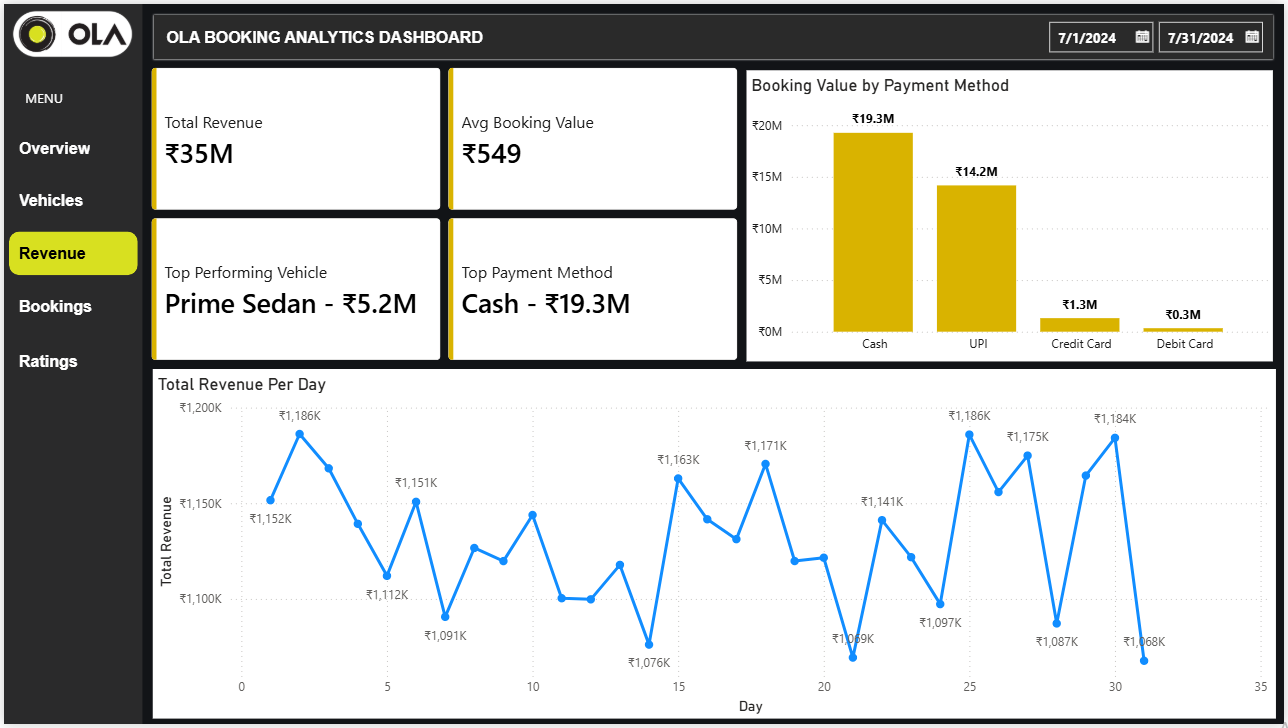

This screenshot's page, from the dashboard's own definition file:
{"tool":"powerbi","page":{"name":"Revenue","canvas":[1280,720],"ordinal":2},"visuals":[{"type":"shape","box":[0,0,138.8,720],"z":0},{"type":"image","box":[8.8,2.5,120,55],"z":1000},{"type":"textbox","box":[16.2,80,53.8,28.8],"z":2000},{"type":"actionButton","box":[5,122.5,128.8,43.8],"z":3000},{"type":"actionButton","box":[5,175,128.8,43.8],"z":4000},{"type":"actionButton","box":[5,227.5,128.8,43.8],"z":5000},{"type":"actionButton","box":[5,281.2,128.8,43.8],"z":6000},{"type":"actionButton","box":[5,336.2,128.8,43.8],"z":7000},{"type":"shape","box":[147.5,8.8,1123.8,48.8],"z":8000},{"type":"textbox","box":[157.5,16.2,355,35],"z":9000},{"type":"slicer","fields":{"Values":["OLA_Booking_Dataset.Date"]},"box":[1032.6,7.4,239,45.6],"z":10000},{"type":"clusteredColumnChart","title":"Booking Value by Payment Method","fields":{"Category":["OLA_Booking_Dataset.Payment_Method"],"Y":["OLA_Booking_Dataset.Total Revenue"]},"box":[743,66.5,526.2,291],"z":11000},{"type":"lineChart","title":"Total Revenue Per Day","fields":{"Y":["OLA_Booking_Dataset.Total Revenue"],"Category":["OLA_Booking_Dataset.Date.Variation.Date Hierarchy.Day"]},"box":[148.5,364.5,1123,349.8],"z":12000},{"type":"cardVisual","fields":{"Data":["OLA_Booking_Dataset.Total Revenue","OLA_Booking_Dataset.Avg Booking Value","OLA_Booking_Dataset.Top Vehicle","OLA_Booking_Dataset.Top Payment Method"]},"box":[147.9,64.1,586.5,293.3],"z":12001}]}

Visuals, with their boxes in screenshot pixels (x1, y1, x2, y2), scaled from the page's 1280x720 canvas onto the 1288x728 screenshot:
shape: 0, 0, 140, 727
image: 9, 3, 130, 58
textbox: 16, 81, 70, 110
actionButton: 5, 124, 135, 168
actionButton: 5, 177, 135, 221
actionButton: 5, 230, 135, 274
actionButton: 5, 284, 135, 329
actionButton: 5, 340, 135, 384
shape: 148, 9, 1279, 58
textbox: 158, 16, 516, 52
slicer - OLA_Booking_Dataset.Date: 1039, 7, 1280, 54
"Booking Value by Payment Method" clusteredColumnChart: 748, 67, 1277, 361
"Total Revenue Per Day" lineChart: 149, 369, 1279, 722
cardVisual - OLA_Booking_Dataset.Total Revenue x OLA_Booking_Dataset.Avg Booking Value: 149, 65, 739, 361
